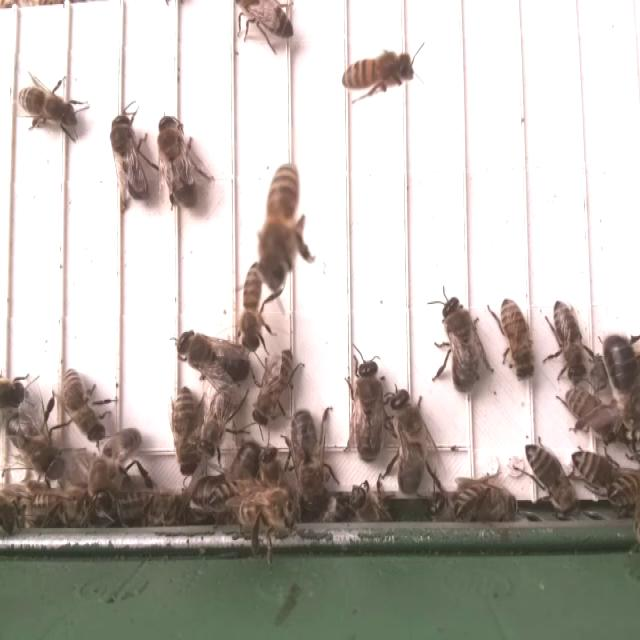Drone: (4, 408, 70, 484), (173, 327, 255, 388), (156, 111, 201, 210), (288, 406, 328, 517), (440, 294, 483, 397), (388, 386, 427, 497), (109, 107, 150, 203), (352, 355, 387, 462)
Worker: (259, 162, 301, 283), (525, 442, 575, 516), (497, 295, 537, 385), (61, 362, 105, 442), (340, 51, 417, 94), (251, 348, 294, 425), (569, 446, 630, 500), (199, 381, 240, 458), (551, 296, 586, 385), (563, 386, 616, 443), (170, 386, 200, 476), (16, 84, 77, 127), (241, 259, 269, 351)
